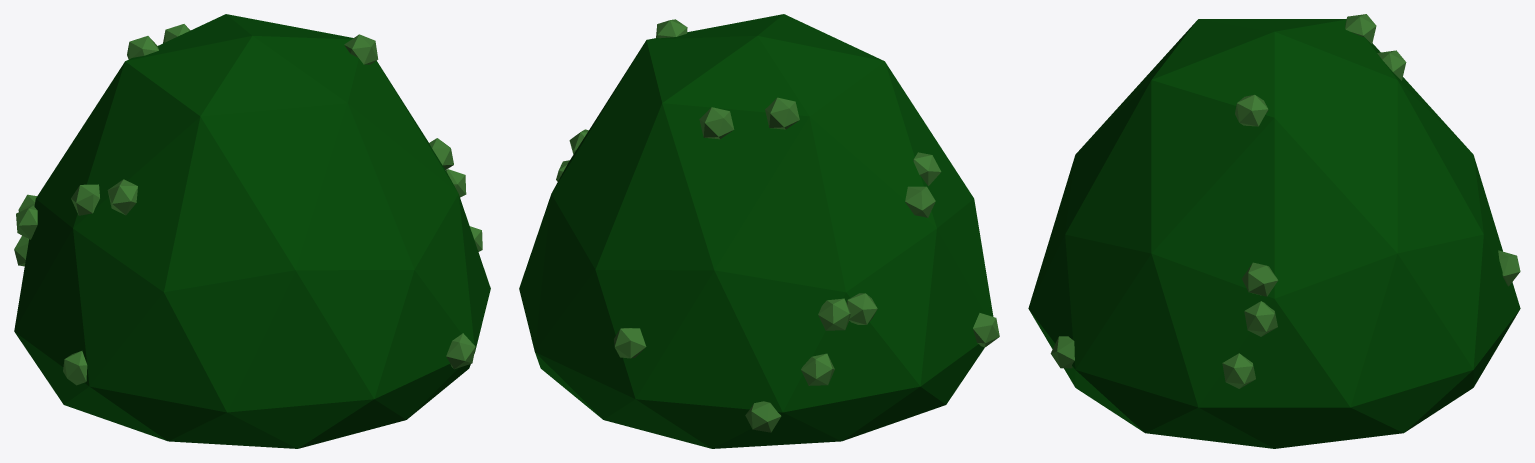
Rendered from Bush_Erbsen_01.fbx.
The picture shows the model from 3 angles, left to right: view 1: azimuth 30°, elevation 25°; view 2: azimuth 150°, elevation 25°; view 3: azimuth 270°, elevation 25°; orthographic projection.
Parts seen in each view (by area): view 1: Icosphere; view 2: Icosphere; view 3: Icosphere.
Part boxes in pixels (<box>): Icosphere: <box>14,14,490,448</box>; Icosphere: <box>519,14,999,448</box>; Icosphere: <box>1028,14,1520,448</box>.
Size of the model in its own units: 201 by 147 by 200.
